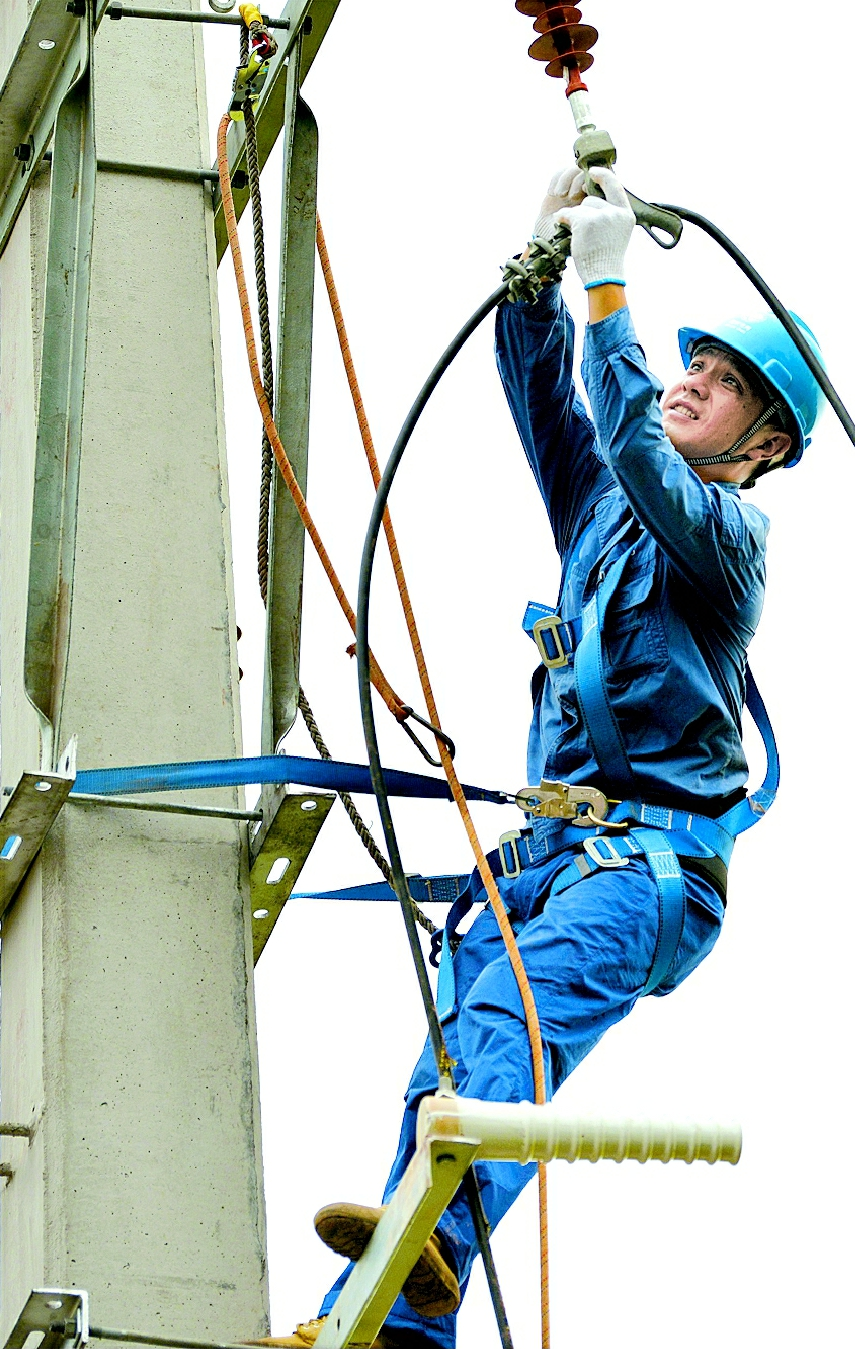safetyhat: (385, 185, 855, 1243)
